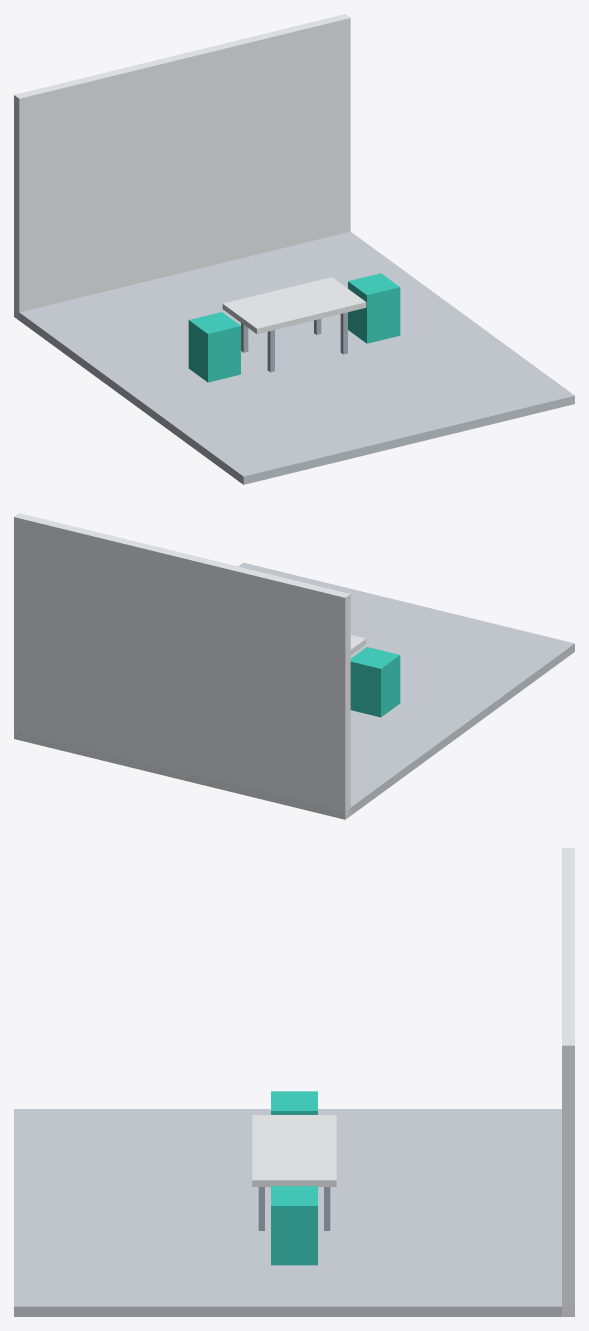
3 renders of one model, top to bottom at view 1: azimuth 30°, elevation 25°; view 2: azimuth 150°, elevation 25°; view 3: azimuth 270°, elevation 25°, orthographic. The views are drawn at different scales.
Visible parts, largest first — view 1: Exhibition Booth Concept; view 2: Exhibition Booth Concept; view 3: Exhibition Booth Concept.
Part boxes in pixels (x1=…): Exhibition Booth Concept: x1=14, y1=14, x2=574, y2=484; Exhibition Booth Concept: x1=14, y1=513, x2=574, y2=819; Exhibition Booth Concept: x1=14, y1=848, x2=574, y2=1316.
Bounding box in the file's own units: 5 × 3.2 × 6.
